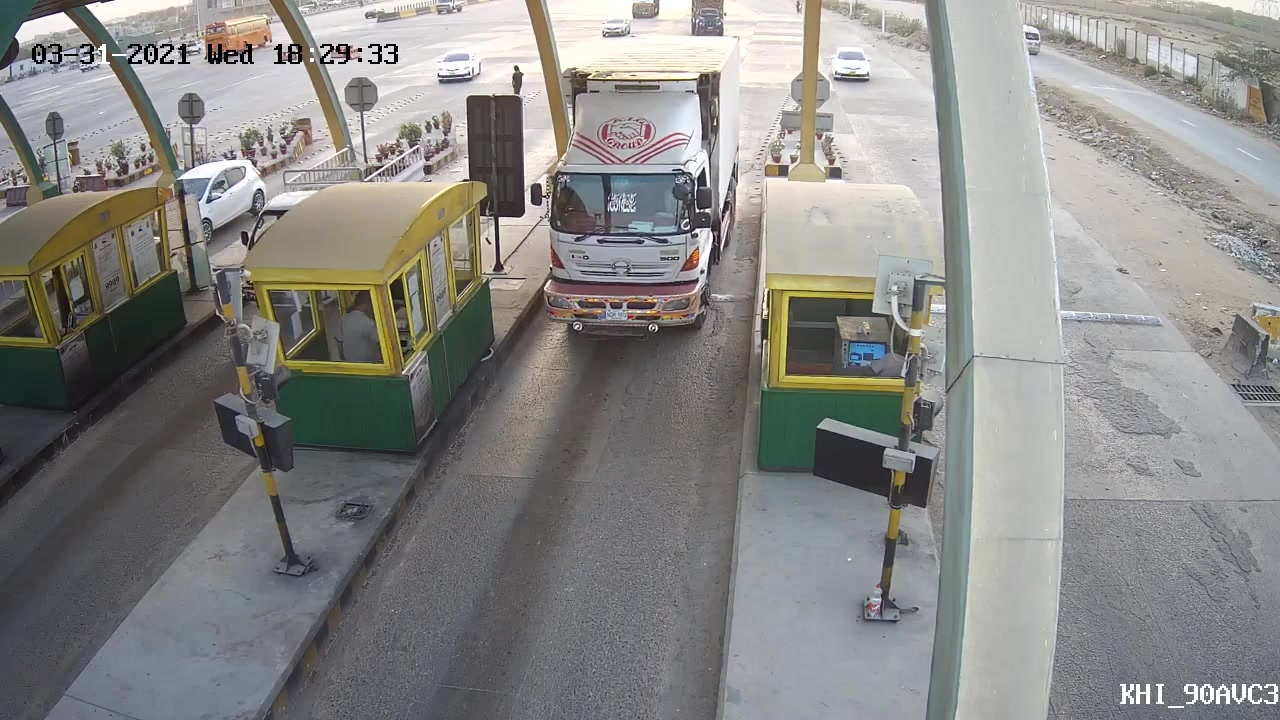F6: (520, 48, 746, 347)
